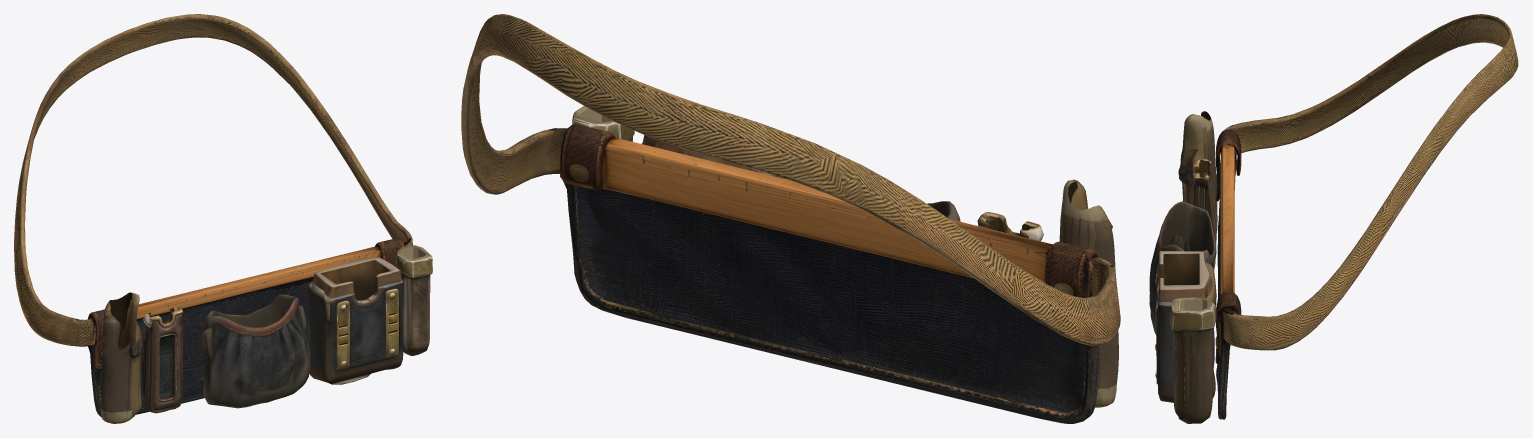
File: assembled-v1.glb
3 renders of one model, left to right at view 1: azimuth 30°, elevation 25°; view 2: azimuth 150°, elevation 25°; view 3: azimuth 270°, elevation 25°, orthographic. The views are drawn at different scales.
Visible parts, largest first — view 1: BeltBody, WoodCase, SoftPouch, PenSleeve, FlatSleeve, TallSleeve; view 2: BeltBody, PenSleeve, TallSleeve, FlatSleeve, WoodCase; view 3: BeltBody, TallSleeve, WoodCase, SoftPouch, PenSleeve, FlatSleeve.
Part boxes in pixels (box(x1,y1,x2,y2)): BeltBody: box(14, 14, 412, 416); WoodCase: box(306, 257, 403, 384); SoftPouch: box(200, 294, 310, 408); PenSleeve: box(101, 292, 142, 423); FlatSleeve: box(142, 307, 183, 413); TallSleeve: box(395, 245, 432, 355); BeltBody: box(461, 14, 1120, 423); PenSleeve: box(1059, 179, 1118, 407); TallSleeve: box(572, 106, 634, 141); FlatSleeve: box(977, 212, 1043, 241); WoodCase: box(642, 135, 784, 178); BeltBody: box(1215, 14, 1518, 419); TallSleeve: box(1170, 297, 1216, 423); WoodCase: box(1155, 251, 1216, 402); SoftPouch: box(1149, 201, 1216, 335); PenSleeve: box(1178, 111, 1217, 232); FlatSleeve: box(1193, 159, 1216, 269).
Size of the model in its own units: 0.3501 by 0.2494 by 0.2644.
Materials: 6 (6 with a texture image).
